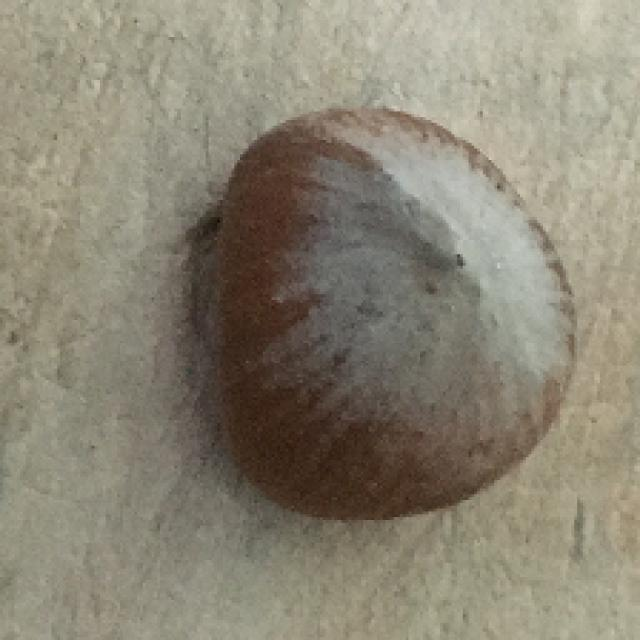qualityHazelnut: (209, 97, 584, 550)
